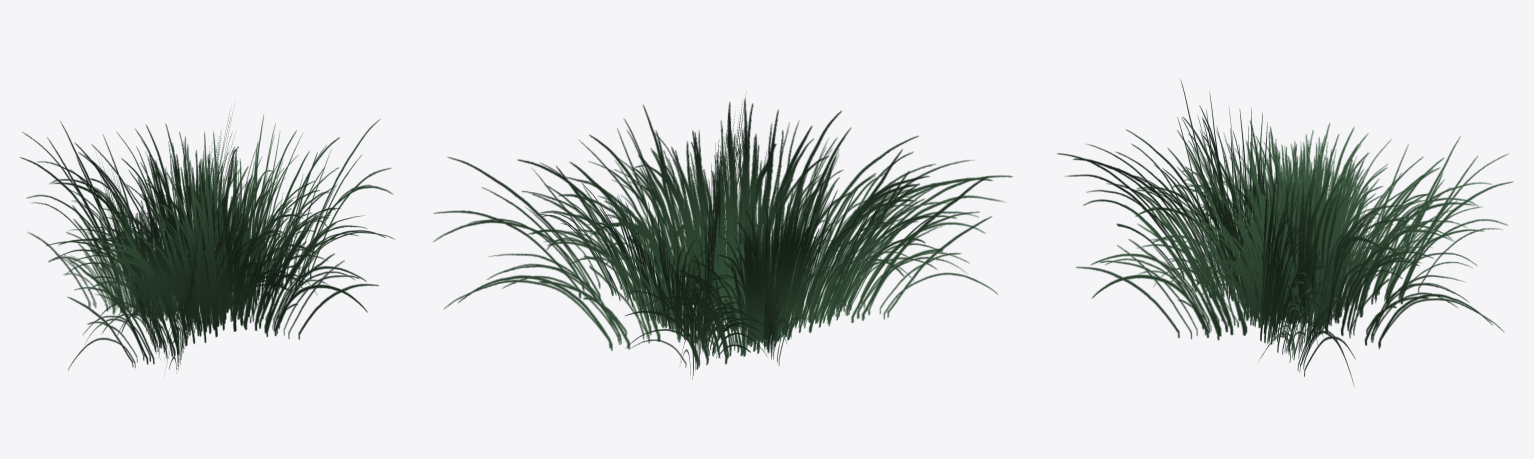
File: grass_large1.glb
3 views of the same model, side by side, from view 1: azimuth 30°, elevation 25°; view 2: azimuth 150°, elevation 25°; view 3: azimuth 270°, elevation 25° (orthographic). The views are drawn at different scales.
Parts seen in each view (by area): view 1: Grass large 1; view 2: Grass large 1; view 3: Grass large 1.
Boxes of the visible parts, bbox=[...] form: Grass large 1: bbox=[20, 107, 394, 372]; Grass large 1: bbox=[433, 92, 1012, 378]; Grass large 1: bbox=[1057, 79, 1513, 386].
Size of the model in its own units: 0.7848 by 0.3748 by 0.7274.
Materials: 1 (1 with a texture image).
